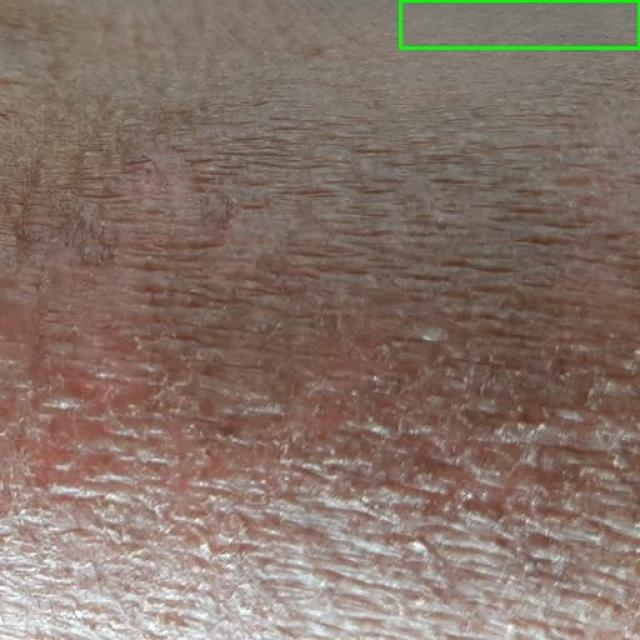Seborrheic Dermatitis: (400, 0, 639, 48)
